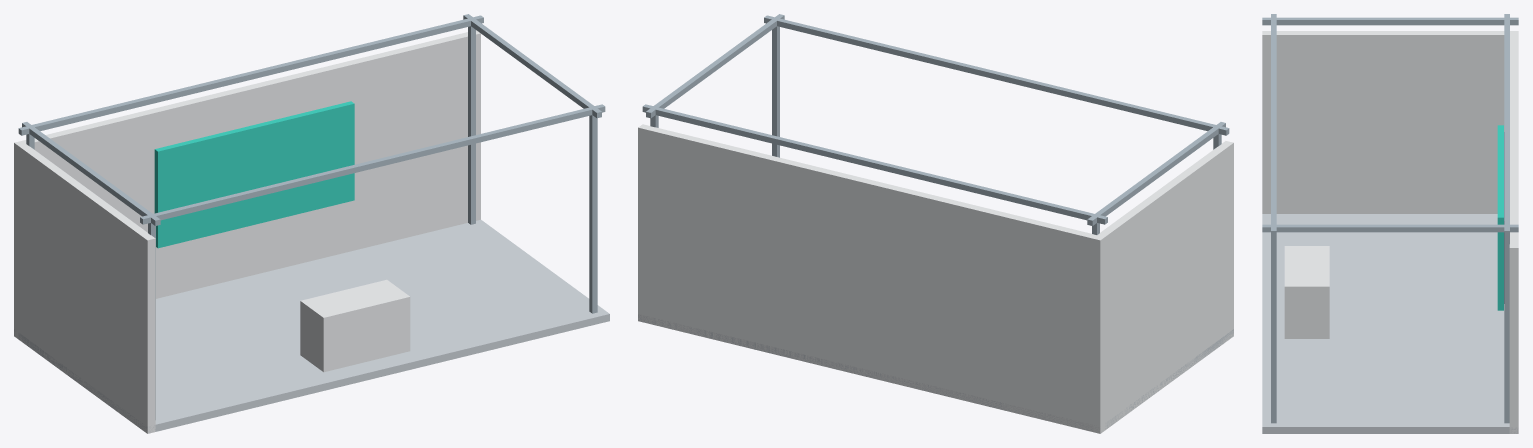
3 renders of one model, left to right at view 1: azimuth 30°, elevation 25°; view 2: azimuth 150°, elevation 25°; view 3: azimuth 270°, elevation 25°, orthographic. The views are drawn at different scales.
Parts seen in each view (by area): view 1: Exhibition Booth Concept; view 2: Exhibition Booth Concept; view 3: Exhibition Booth Concept.
Boxes of the visible parts, x1,y1,x2,y2 form: Exhibition Booth Concept: (14, 14, 609, 433); Exhibition Booth Concept: (638, 14, 1233, 433); Exhibition Booth Concept: (1262, 14, 1518, 433).
Bounding box in the file's own units: 8 × 3.49 × 4.
